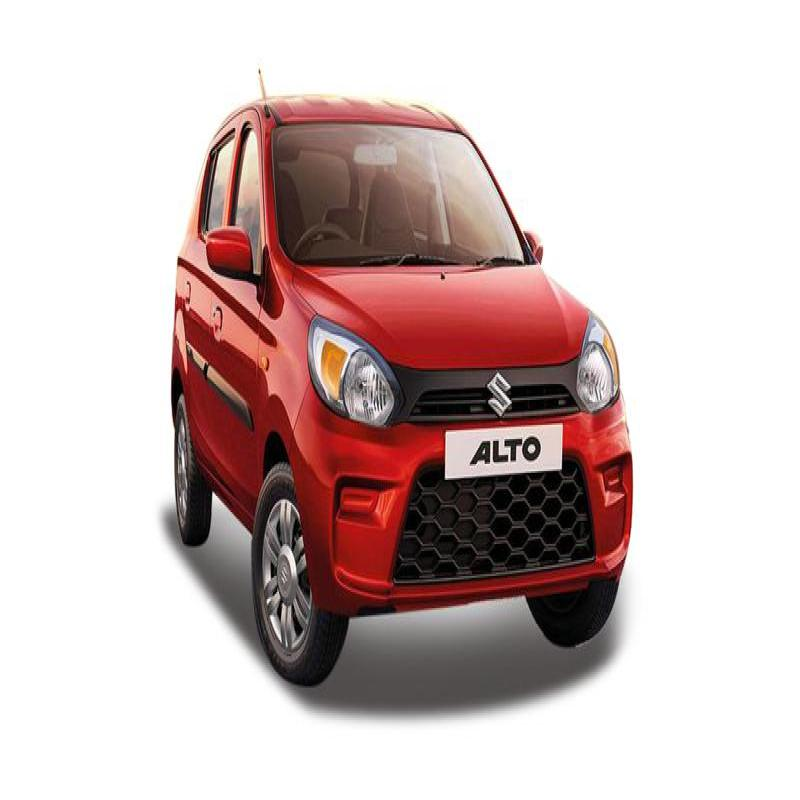car: (157, 97, 654, 697)
